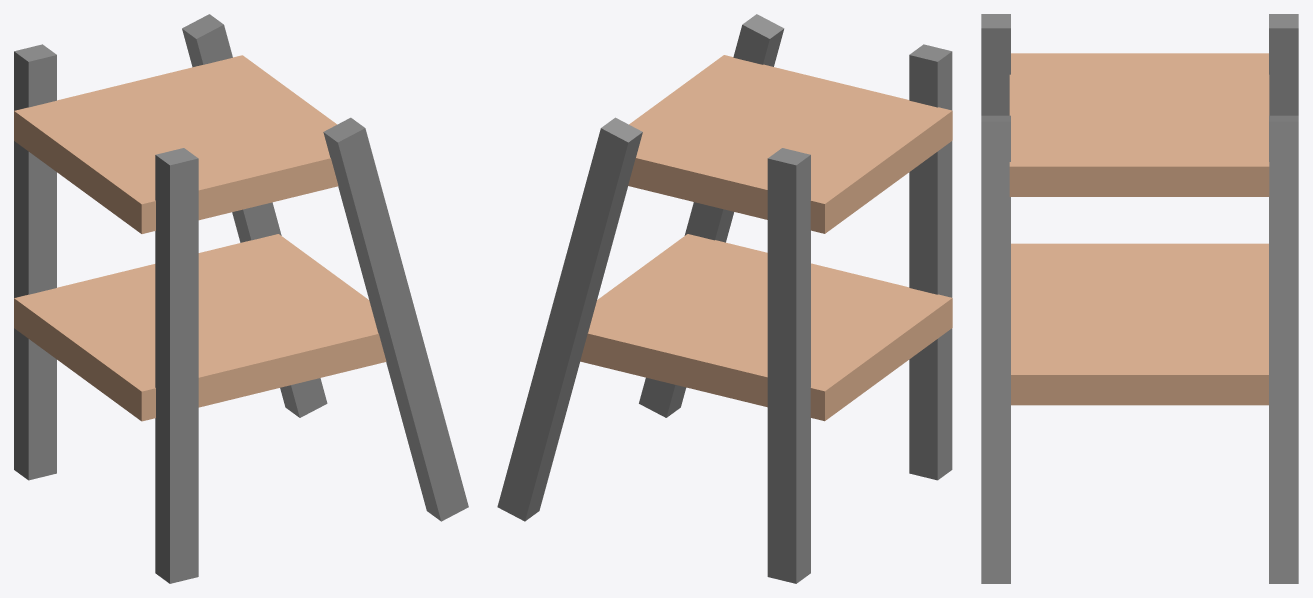
The model's file is furniture_1.FBX.
3 renders of one model, left to right at view 1: azimuth 30°, elevation 25°; view 2: azimuth 150°, elevation 25°; view 3: azimuth 270°, elevation 25°, orthographic.
Visible parts, largest first — view 1: furniture_1; view 2: furniture_1; view 3: furniture_1.
Boxes of the visible parts, x1,y1,x2,y2 form: furniture_1: (14, 14, 468, 583); furniture_1: (497, 14, 952, 583); furniture_1: (981, 14, 1298, 583).
Size of the model in its own units: 6.49 by 8.36 by 5.59.
